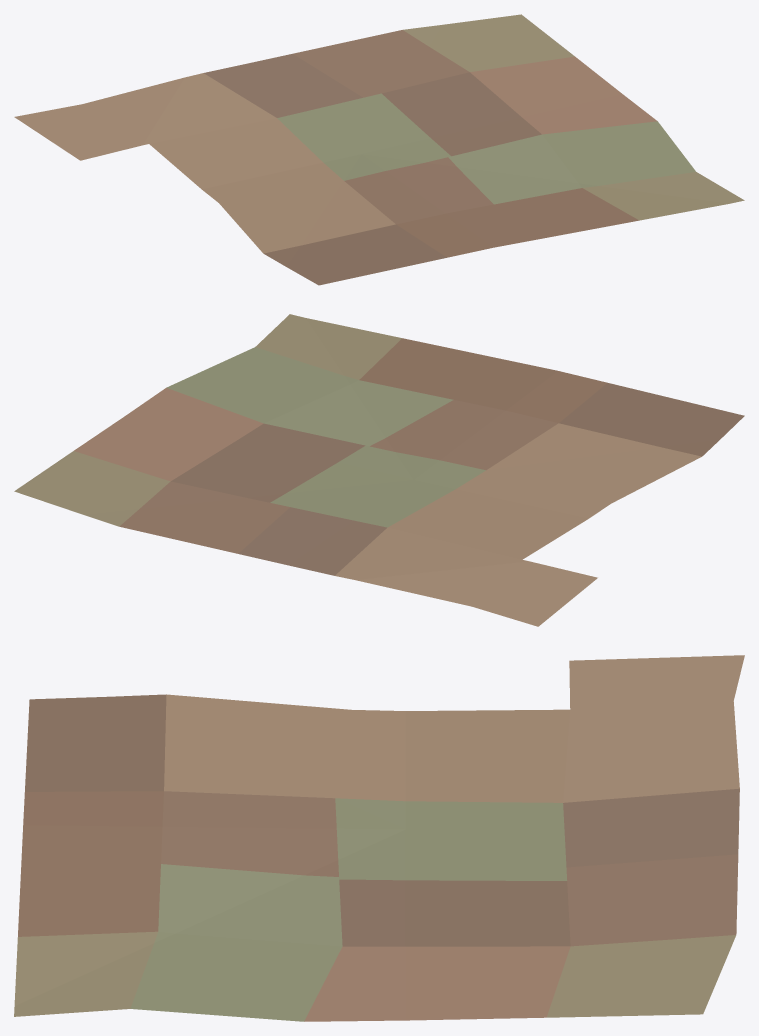
Rendered from farm_35_23_soil.glb.
3 renders of one model, top to bottom at view 1: azimuth 30°, elevation 25°; view 2: azimuth 150°, elevation 25°; view 3: azimuth 270°, elevation 25°, orthographic. The views are drawn at different scales.
Parts seen in each view (by area): view 1: geometry_0; view 2: geometry_0; view 3: geometry_0.
Part boxes in pixels (bbox=[...]): geometry_0: bbox=[14, 14, 744, 285]; geometry_0: bbox=[14, 314, 744, 626]; geometry_0: bbox=[14, 655, 744, 1021].
Size of the model in its own units: 152 by 4.66 by 134.
